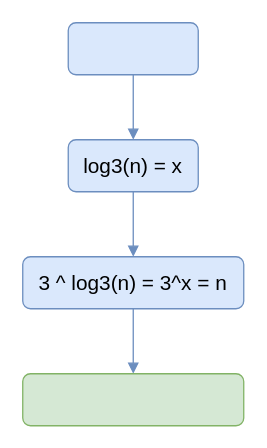
Some shapes in this 267 by 448 pixel diagram are drawn without their labels. Each missing label, with the centre of its shape:
"3 ^ log3(n) = n" belongs at pixel 132 399.
"n = 3^x" belongs at pixel 132 48.
